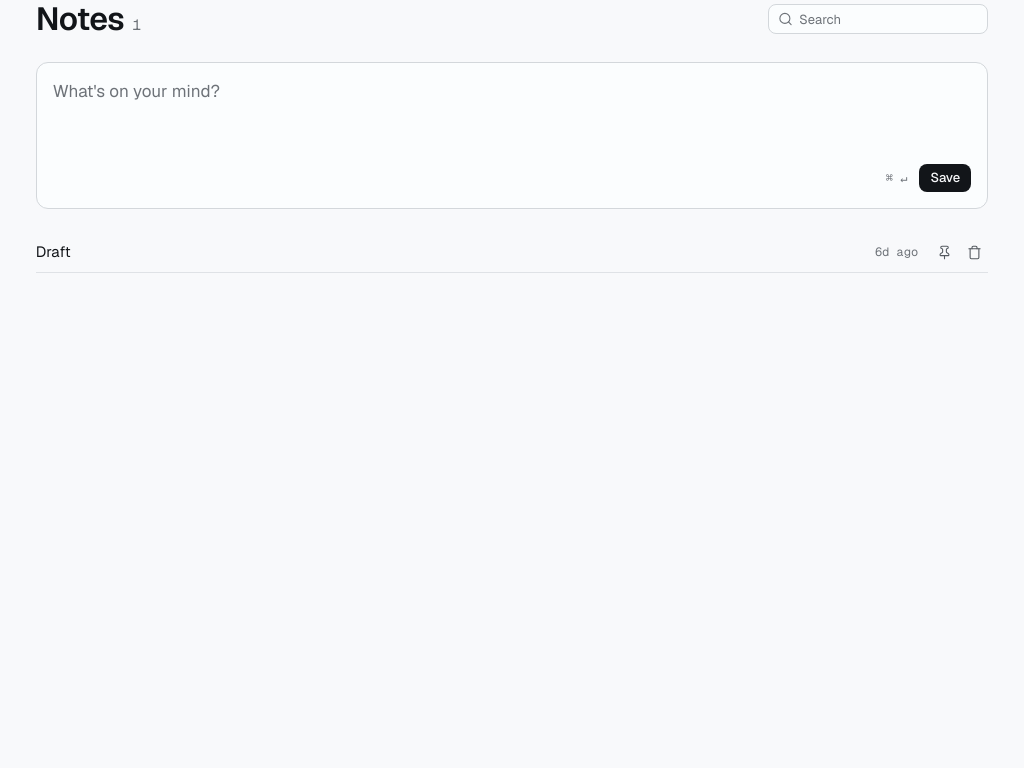
Test: NotesBoard › autosave races › a failed save is retried by the next edit and the error clears on success
The image size is (1024, 768).
Click the button "Draft".
click(53, 252)  # box [36,233,863,272]
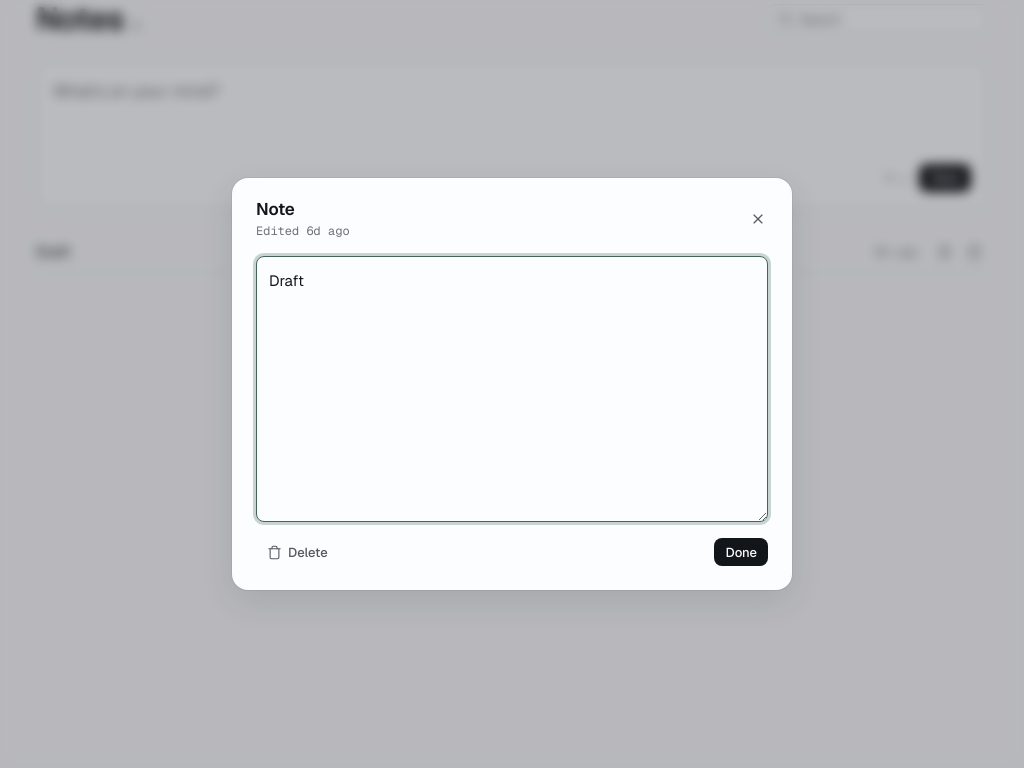
Replace the text in the text box named "Note text" with "Draft v2" at (512, 389), box [256,256,768,522]
Wait 600 ms
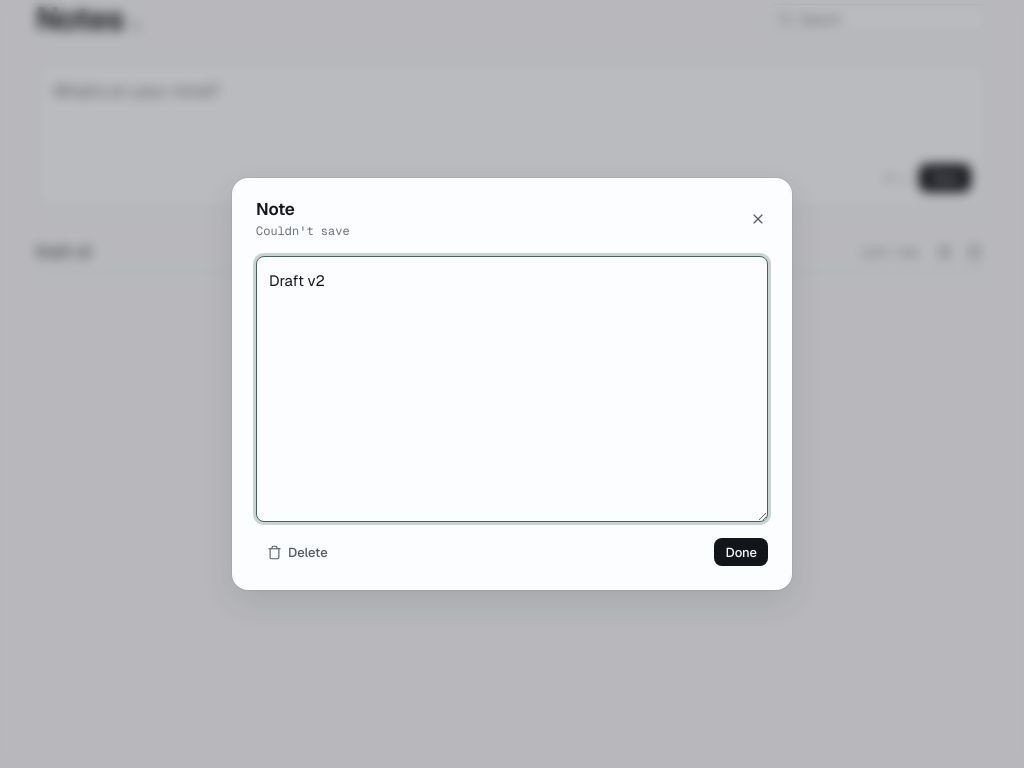
Expected: the text "Couldn't save" is shown, [256,222,350,240]
Replace the text in the text box named "Note text" with "Draft v3" at (512, 389), box [256,256,768,522]
Wait 600 ms
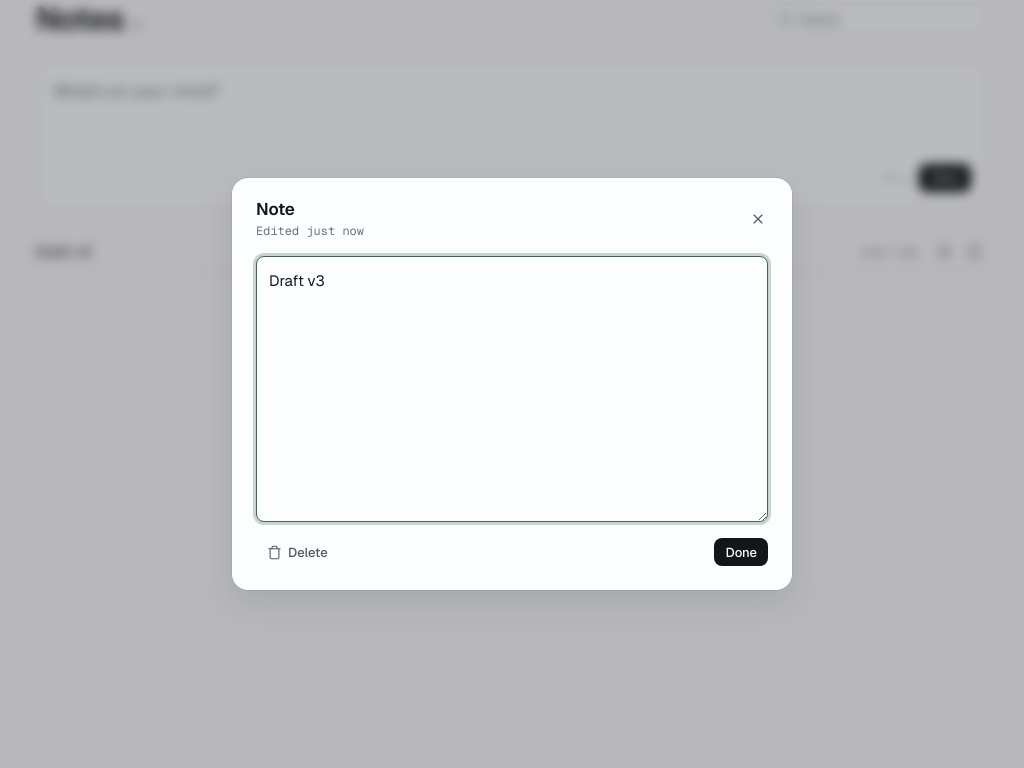
Expected: the text "Couldn't save" is gone
